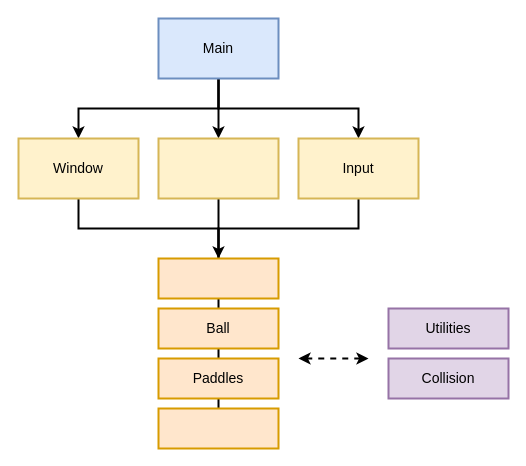
This 526x466 diagram has some shape labels left out. The centre of each missing label's shape, as x and y in pixels:
"Audio" belongs at pixel 218 278.
"Text" belongs at pixel 218 428.
"World" belongs at pixel 218 168.
